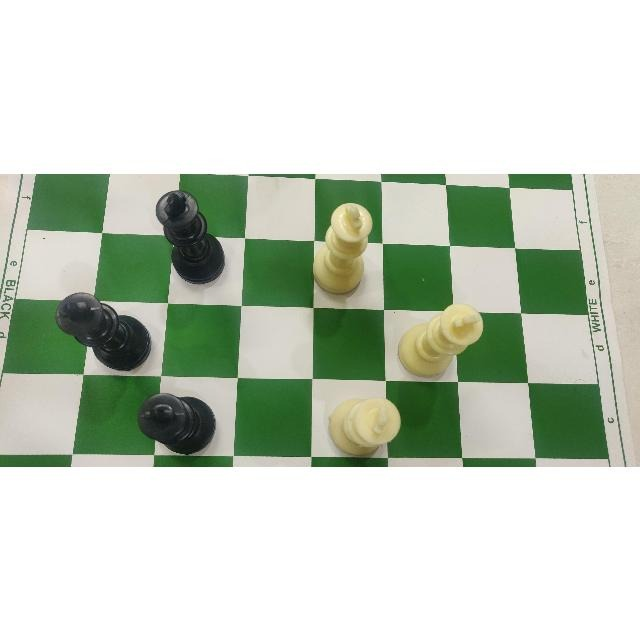black-king: (53, 290, 152, 374), (150, 184, 228, 284), (136, 389, 215, 457)
white-king: (394, 297, 486, 378), (314, 201, 371, 293), (325, 389, 396, 459)
